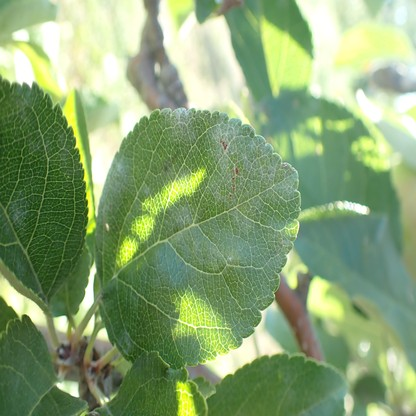powder: (209, 113, 299, 203), (99, 155, 126, 224), (161, 107, 194, 143), (11, 191, 27, 226), (172, 208, 192, 227), (237, 215, 251, 232), (143, 181, 150, 195)
